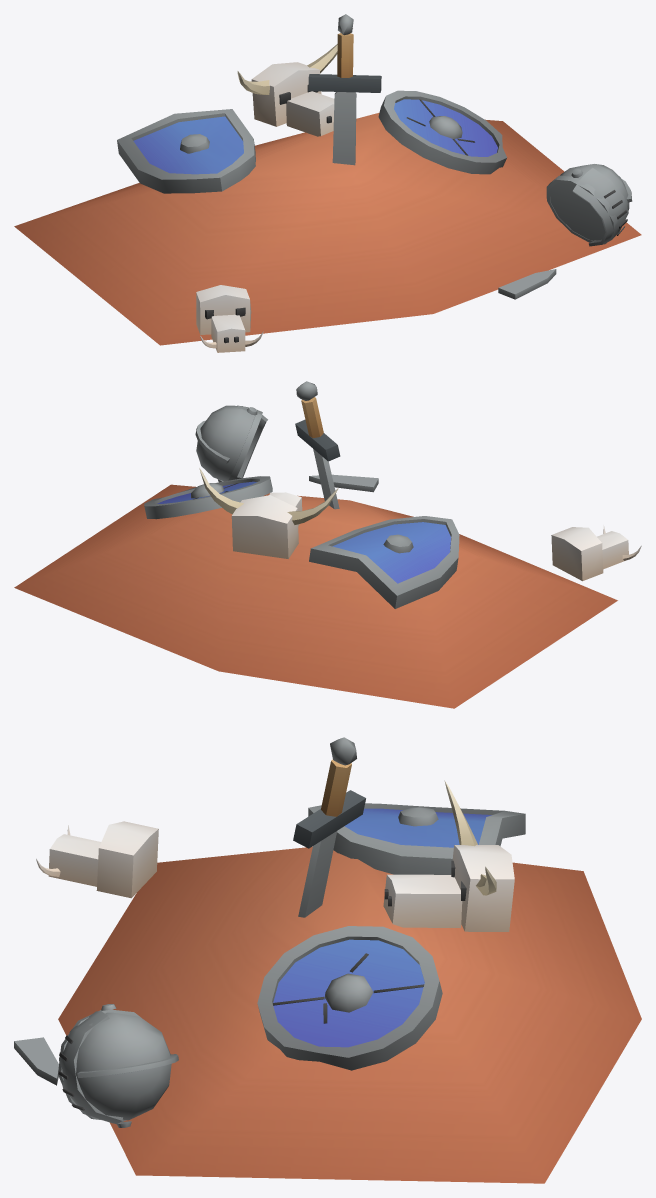
The model's file is trophy_pile.fbx.
The picture shows the model from 3 angles, top to bottom: view 1: azimuth 30°, elevation 25°; view 2: azimuth 150°, elevation 25°; view 3: azimuth 270°, elevation 25°; orthographic projection. The views are drawn at different scales.
Visible parts, largest first — view 1: trophy_pile; view 2: trophy_pile; view 3: trophy_pile.
Part boxes in pixels (bbox=[...]): trophy_pile: bbox=[14, 14, 641, 352]; trophy_pile: bbox=[14, 381, 641, 708]; trophy_pile: bbox=[14, 737, 641, 1183].
Bounding box in the file's own units: 0.78 × 0.3334 × 0.6453.
1 material, 1 textured.
